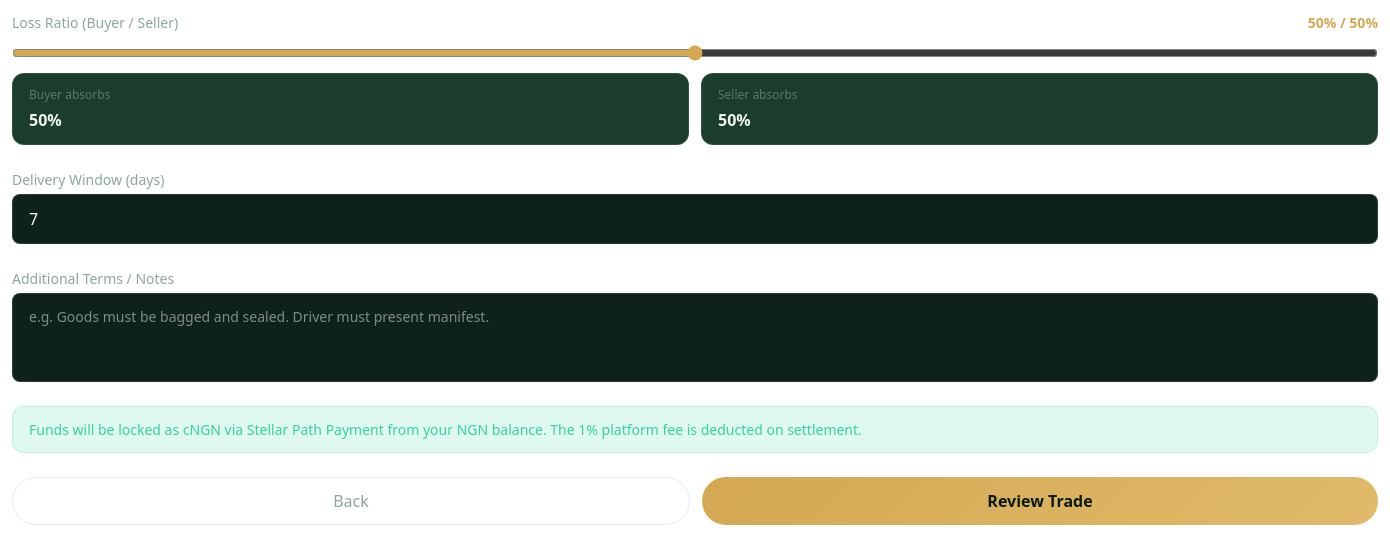
Test: Step2Negotiation › loss ratio slider › should clamp buyer ratio to 0 minimum
Set the slider to "-10": point(695, 53) [12,45,1378,61]
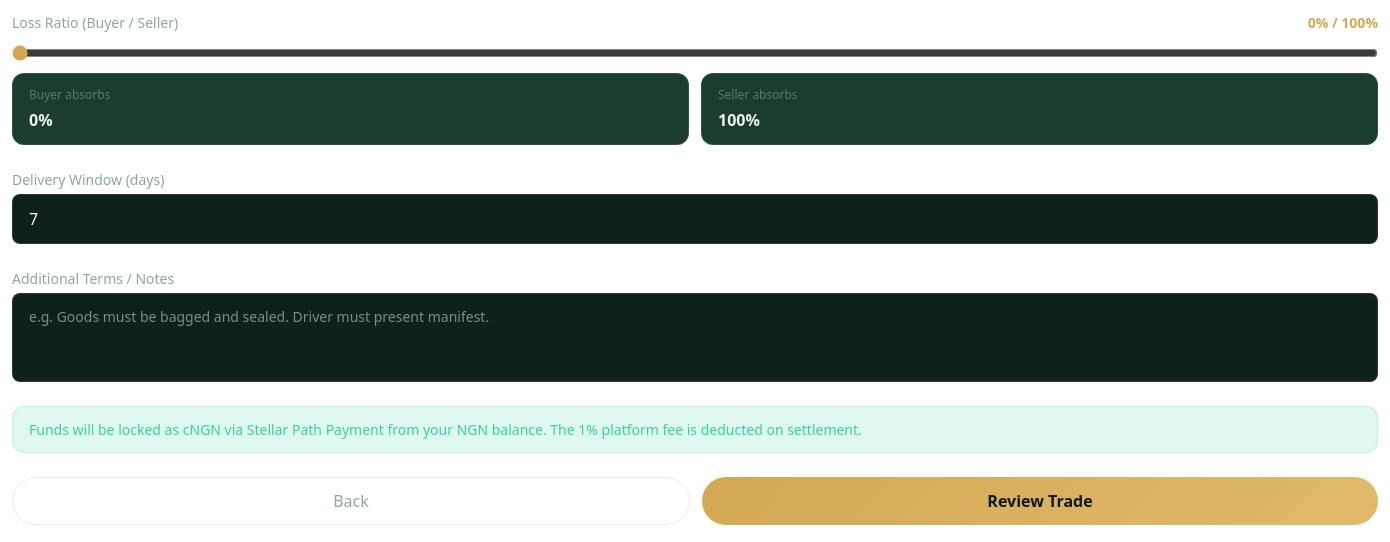
Check: the text "0% / 100%" is shown, box [1308,12,1378,33]
